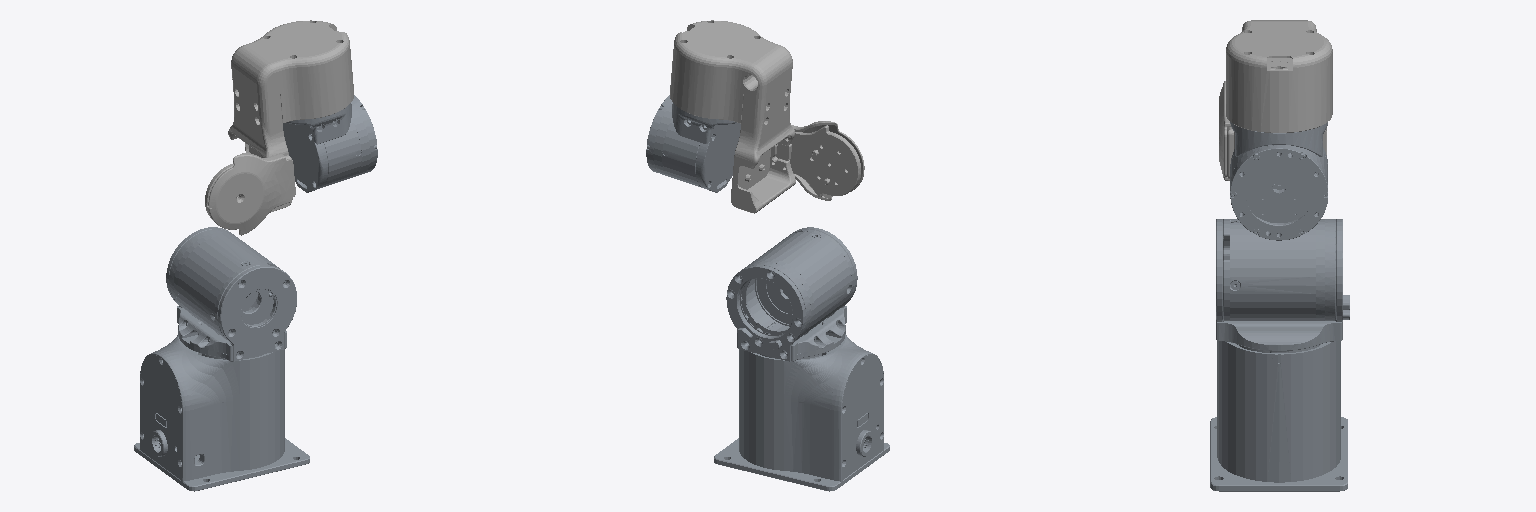
robot.urdf — piper_x_description:
<?xml version="1.0" encoding="utf-8"?>
<!-- This URDF was automatically created by SolidWorks to URDF Exporter! Originally created by [author] ([email redacted]) 
     Commit Version: 1.6.0-4-g7f85cfe  Build Version: 1.6.7995.38578
     For more information, please see http://wiki.ros.org/sw_urdf_exporter -->
<robot
  name="piper_x_description">
  <link
    name="base_link">
  <inertial>
    <origin xyz="-0.00341 -0.00007 0.04401" rpy="0 0 0"/>
    <mass value="1.07"/>
    <inertia
      ixx="0.00307136"
      ixy="0.00000218"
      ixz="0.00016662"
      iyy="0.00321263"
      iyz="0.00000508"
      izz="0.00097796"/>
  </inertial>
    <visual>
      <origin
        xyz="0 0 0"
        rpy="0 0 0" />
      <geometry>
        <mesh
          filename="package://meshes/dae/base_link.dae" />
      </geometry>
      <material
        name="">
        <color
          rgba="0.59216 0.61961 0.65098 1" />
      </material>
    </visual>
    <collision>
      <origin
        xyz="0 0 0"
        rpy="0 0 0" />
      <geometry>
        <mesh
          filename="package://meshes/dae/base_link.dae" />
      </geometry>
    </collision>
  </link>
  <link
    name="link1">
    <inertial>
      <origin xyz="0.00065 0.00006 -0.00325" rpy="0 0 0"/>
      <mass
        value="0.71" />
      <inertia
        ixx="0.00051254"
        ixy="0.00000294"
        ixz="0.00001039"
        iyy="0.00041089"
        iyz="0.00000240"
        izz="0.00045962"/>
    </inertial>
    <visual>
      <origin
        xyz="0 0 0"
        rpy="0 0 0" />
      <geometry>
        <mesh
          filename="package://meshes/dae/J1.dae" />
      </geometry>
      <material
        name="">
        <color
          rgba="0.59216 0.61961 0.65098 1" />
      </material>
    </visual>
    <collision>
      <origin
        xyz="0 0 0"
        rpy="0 0 0" />
      <geometry>
        <mesh
          filename="package://meshes/dae/J1.dae" />
      </geometry>
    </collision>
  </link>
  <joint
    name="joint1"
    type="revolute">
    <origin
      xyz="0 0 0.123"
      rpy="0 0 0" />
    <parent
      link="base_link" />
    <child
      link="link1" />
    <axis
      xyz="0 0 1" />
    <limit
      lower="-2.618"
      upper="2.618"
      effort="100"
      velocity="10" />
  </joint>
  <link
    name="link2">
    <inertial>
      <origin xyz="0.21854 -0.00853 0.00234" rpy="0 0 0"/>
      <mass value="1.16"/>
      <inertia
        ixx="0.00109788"
        ixy="0.00180610"
        ixz="0.00055040"
        iyy="0.06763354"
        iyz="0.00000813"
        izz="0.06762540"/>
    </inertial>
    <visual>
      <origin
        xyz="0 0 0"
        rpy="0 0 0" />
      <geometry>
        <mesh
          filename="package://meshes/dae/J2.dae" />
      </geometry>
    </visual>
    <collision>
      <origin
        xyz="0 0 0"
        rpy="0 0 0" />
      <geometry>
        <mesh
          filename="package://meshes/dae/J2.dae" />
      </geometry>
    </collision>
  </link>
  <joint
    name="joint2"
    type="revolute">
    <origin
      xyz="0 0 0"
      rpy="1.5708 -0.13586 3.1416" />
    <parent
      link="link1" />
    <child
      link="link2" />
    <axis
      xyz="0 0 1" />
    <limit
      lower="0"
      upper="3.14"
      effort="100"
      velocity="10" />
  </joint>
  <link
    name="link3">
    <inertial>
      <origin xyz="0.20190 -0.00415 -0.00114" rpy="0 0 0"/>
      <mass value="0.67"/>
      <inertia
        ixx="0.00033471"
        ixy="0.00026891"
        ixz="0.00013918"
        iyy="0.03360411"
        iyz="0.00000052"
        izz="0.03356941"/>
    </inertial>
    <visual>
      <origin
        xyz="0 0 0"
        rpy="0 0 0" />
      <geometry>
        <mesh
          filename="package://meshes/dae/J3.dae" />
      </geometry>
      <material
        name="">
        <color
          rgba="0.59216 0.61961 0.65098 1" />
      </material>
    </visual>
    <collision>
      <origin
        xyz="0 0 0"
        rpy="0 0 0" />
      <geometry>
        <mesh
          filename="package://meshes/dae/J3.dae" />
      </geometry>
    </collision>
  </link>
  <joint
    name="joint3"
    type="revolute">
    <origin
      xyz="0.28503 0 0"
      rpy="0 0 2.8377" />
    <parent
      link="link2" />
    <child
      link="link3" />
    <axis
      xyz="0 0 1" />
    <limit
      lower="-2.9671"
      upper="0"
      effort="100"
      velocity="10" />
  </joint>
  <link
    name="link4">
    <inertial>
      <origin xyz="0.06593 -0.04751 -0.00274" rpy="0 0 0"/>
      <mass value="0.4"/>
      <inertia
        ixx="0.00120173"
        ixy="0.00138165"
        ixz="0.00001187"
        iyy="0.00209324"
        iyz="0.00000217"
        izz="0.00307814"/>
    </inertial>
    <visual>
      <origin
        xyz="0 0 0"
        rpy="0 0 0" />
      <geometry>
        <mesh
          filename="package://meshes/dae/J4.dae" />
      </geometry>
      <material
        name="">
        <color
          rgba="0.69804 0.69804 0.69804 0.875" />
      </material>
    </visual>
    <collision>
      <origin
        xyz="0 0 0"
        rpy="0 0 0" />
      <geometry>
        <mesh
          filename="package://meshes/dae/J4.dae" />
      </geometry>
    </collision>
  </link>
  <joint
    name="joint4"
    type="revolute">
    <origin
      xyz="0.27264 0 0"
      rpy="0 0 0.075129" />
    <parent
      link="link3" />
    <child
      link="link4" />
    <axis
      xyz="0 0 1" />
    <limit
      lower="-1.57"
      upper="1.57"
      effort="100"
      velocity="10" />
  </joint>
  <link
    name="link5">
    <inertial>
      <origin xyz="0.00005 0.0 -0.00417" rpy="0 0 0"/>
      <mass value="0.35"/>
      <inertia
        ixx="0.00022660"
        ixy="0.00000019"
        ixz="0.00000005"
        iyy="0.00017740"
        iyz="0.00000085"
        izz="0.00019425"/>
    </inertial>
    <visual>
      <origin
        xyz="0 0 0"
        rpy="0 0 0" />
      <geometry>
        <mesh
          filename="package://meshes/dae/J5.dae" />
      </geometry>
      <material
        name="">
        <color
          rgba="0.59216 0.61961 0.65098 1" />
      </material>
    </visual>
    <collision>
      <origin
        xyz="0 0 0"
        rpy="0 0 0" />
      <geometry>
        <mesh
          filename="package://meshes/dae/J5.dae" />
      </geometry>
    </collision>
  </link>
  <joint
    name="joint5"
    type="revolute">
    <origin
      xyz="0.076857 0.00062395 0"
      rpy="-1.5708 0 0" />
    <parent
      link="link4" />
    <child
      link="link5" />
    <axis
      xyz="0 0 1" />
    <limit
      lower="-1.57"
      upper="1.57"
      effort="100"
      velocity="10" />
  </joint>
  <link
    name="link6">
    <inertial>
      <origin xyz="0 0 -0.00351" rpy="0 0 0"/>
      <mass value="0.01"/>
      <inertia
        ixx="0.00000064"
        ixy="0"
        ixz="0"
        iyy="0.00000064"
        iyz="0"
        izz="0.00000106"/>
    </inertial>
    <visual>
      <origin
        xyz="0 0 -0.035"
        rpy="0 0 0" />
      <geometry>
        <mesh
          filename="package://meshes/Link6.STL" />
      </geometry>
      <material
        name="">
        <color
          rgba="0.898039215686275 0.917647058823529 0.929411764705882 1" />
      </material>
    </visual>
    <collision>
      <origin
        xyz="0 0 -0.035"
        rpy="0 0 0" />
      <geometry>
        <mesh
          filename="package://meshes/Link6.STL" />
      </geometry>
    </collision>
  </link>
  <joint
    name="joint6"
    type="revolute">
    <origin
      xyz="0.035 0 0"
      rpy="1.5708 0 1.5708" />
    <parent
      link="link5" />
    <child
      link="link6" />
    <axis
      xyz="0 0 1" />
    <limit
      lower="-3.14"
      upper="3.14"
      effort="100"
      velocity="10" />
    </joint>

</robot>

--- Facts derived from the render (not from the file) ---
Views: 3 orthographic renders of the robot side by side, from view 1: azimuth 30°, elevation 25°; view 2: azimuth 150°, elevation 25°; view 3: azimuth 270°, elevation 25°.
Model piper_x_description with 7 links and 6 joints (6 revolute), rooted at base_link, posed all joints at 0.
Links seen in each view (by area): view 1: base_link, link4, link1, link5; view 2: link4, base_link, link1, link5; view 3: base_link, link1, link4, link5.
Link boxes in pixels (box(x1,y1,x2,y2)): base_link: box(134, 334, 309, 491); link4: box(205, 20, 353, 235); link1: box(166, 227, 296, 361); link5: box(283, 95, 377, 192); link4: box(670, 20, 864, 213); base_link: box(714, 334, 889, 491); link1: box(726, 227, 857, 361); link5: box(646, 95, 740, 192); base_link: box(1210, 341, 1347, 491); link1: box(1216, 219, 1349, 352); link4: box(1219, 20, 1332, 180); link5: box(1230, 122, 1327, 240).
Bounding box of the posed robot: 0.1579 × 0.0808 × 0.2973 m (x, y, z).
Meshes: 7 distinct files referenced, 4 mesh visuals loaded (4 Collada DAE); not drawn: 3 (reference not matched to a file when rendering).
